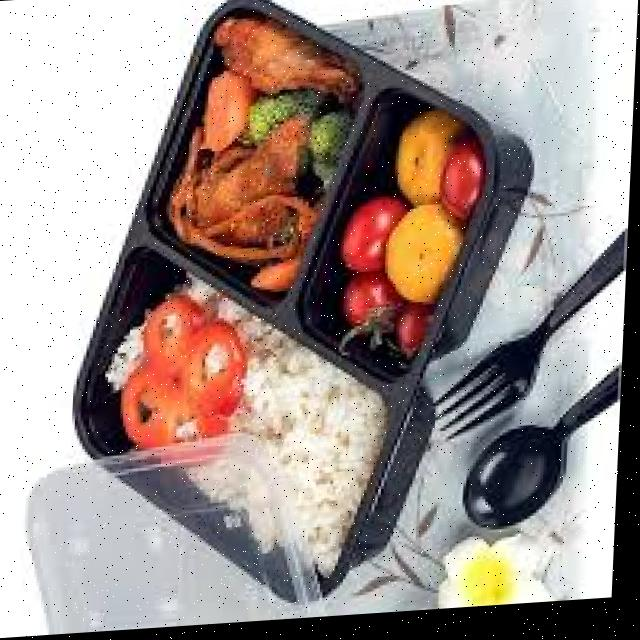disposable: (55, 0, 546, 611)
